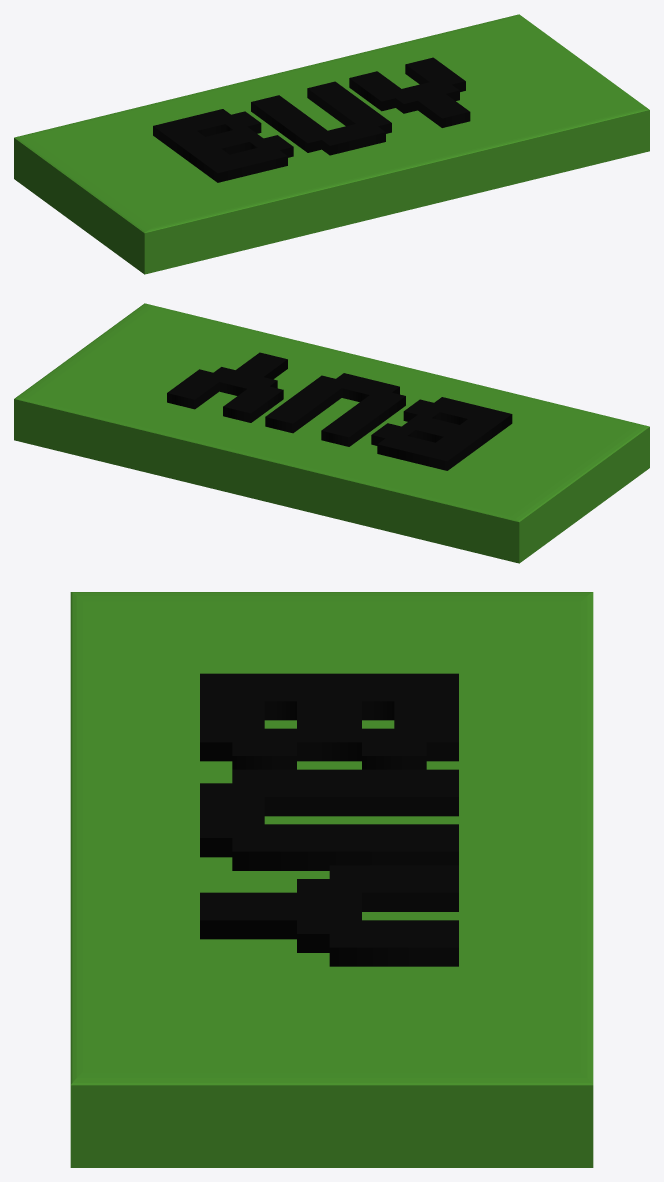
File: BuyButton.glb
3 views of the same model, one above another, from view 1: azimuth 30°, elevation 25°; view 2: azimuth 150°, elevation 25°; view 3: azimuth 270°, elevation 25° (orthographic). The views are drawn at different scales.
Parts seen in each view (by area): view 1: Cube, Text; view 2: Cube, Text; view 3: Cube, Text.
Boxes of the visible parts, box(x1,y1,x2,y2) form: Cube: box(14, 14, 649, 274); Text: box(153, 57, 470, 182); Cube: box(14, 303, 649, 563); Text: box(167, 352, 512, 470); Cube: box(70, 592, 593, 1167); Text: box(200, 673, 458, 966).
Size of the model in its own units: 4.47 by 0.4385 by 2.
